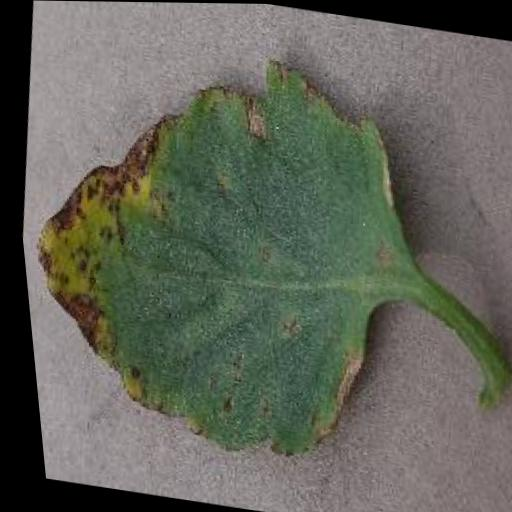Bacterial Spot: (1, 13, 458, 477)
